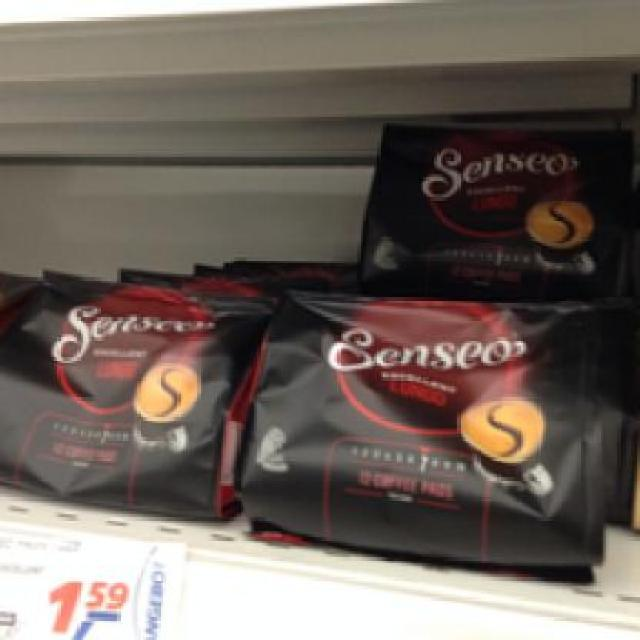Coffee: (234, 283, 612, 586), (0, 265, 257, 518), (348, 116, 634, 290)
